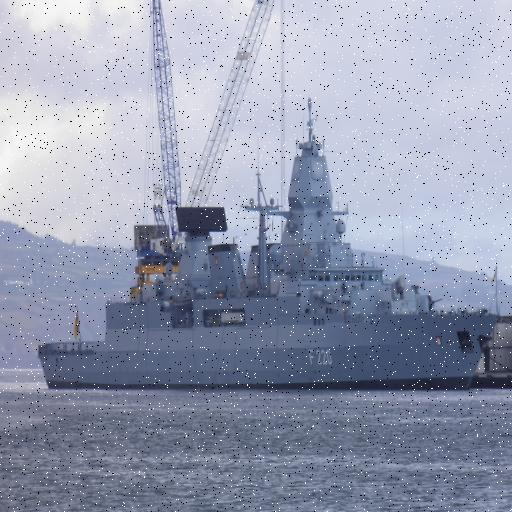Fragata: (39, 90, 503, 398)
